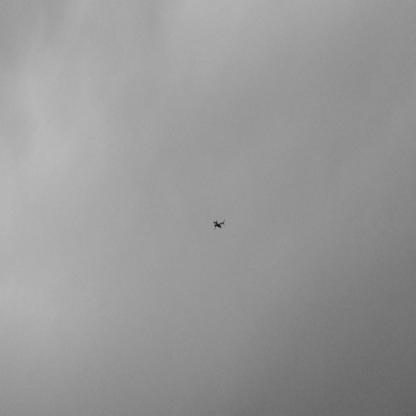V22: (214, 219, 227, 232)
